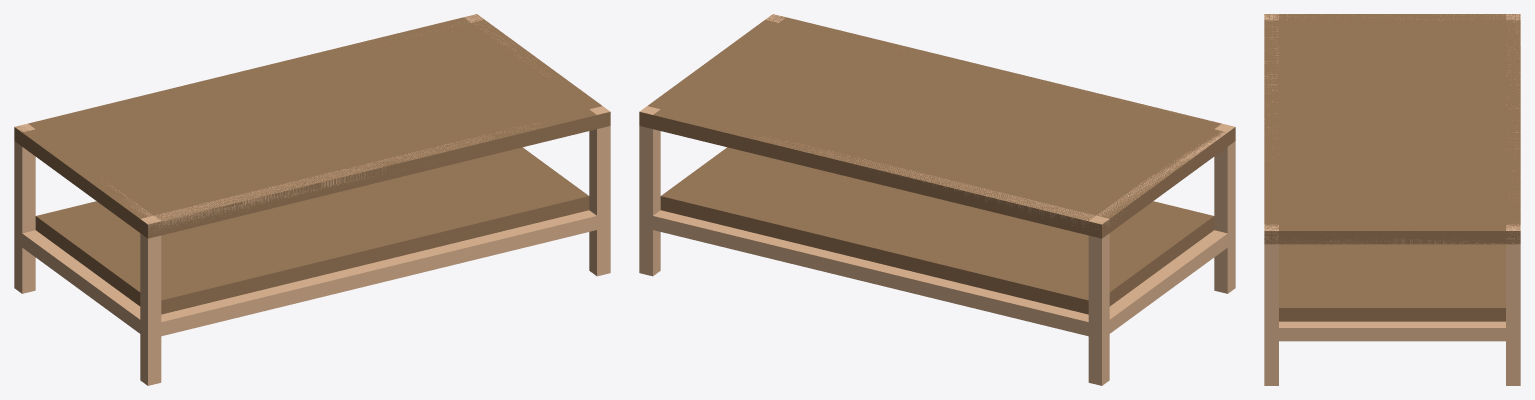
3 views of the same model, side by side, from view 1: azimuth 30°, elevation 25°; view 2: azimuth 150°, elevation 25°; view 3: azimuth 270°, elevation 25° (orthographic). The views are drawn at different scales.
Visible parts, largest first — view 1: Tabletop, Shelf, Copper_Frame; view 2: Tabletop, Shelf, Copper_Frame; view 3: Tabletop, Shelf, Copper_Frame.
Boxes of the visible parts, left/top/right/bottom form: Tabletop: left=14, top=14, right=610, bottom=238; Shelf: left=35, top=147, right=589, bottom=314; Copper_Frame: left=14, top=14, right=610, bottom=385; Tabletop: left=639, top=14, right=1235, bottom=238; Shelf: left=660, top=147, right=1214, bottom=314; Copper_Frame: left=639, top=14, right=1235, bottom=385; Tabletop: left=1264, top=14, right=1520, bottom=244; Shelf: left=1279, top=244, right=1505, bottom=321; Copper_Frame: left=1264, top=14, right=1520, bottom=385.
Size of the model in its own units: 1.2 by 0.4 by 0.6.
